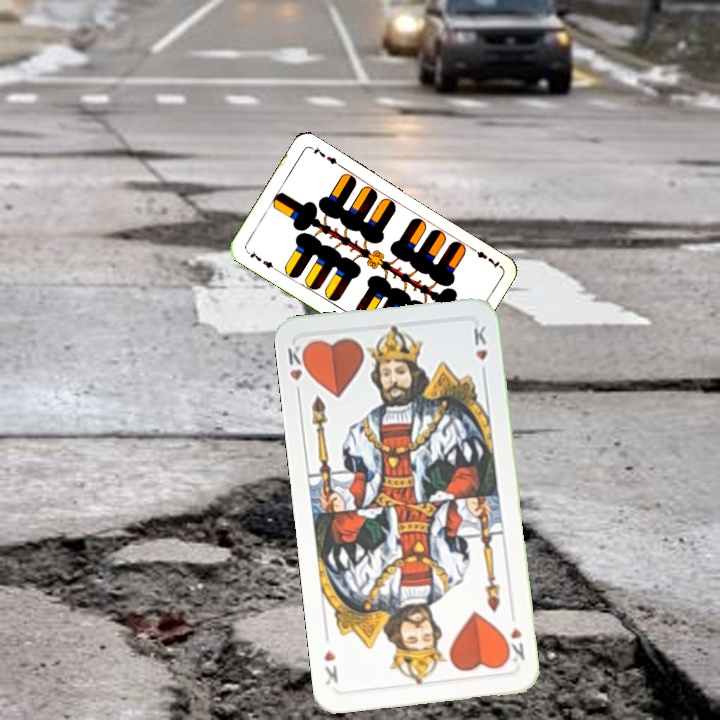E7: (466, 243, 503, 271), (243, 247, 280, 273)
HK: (283, 340, 312, 400), (500, 623, 527, 665)
